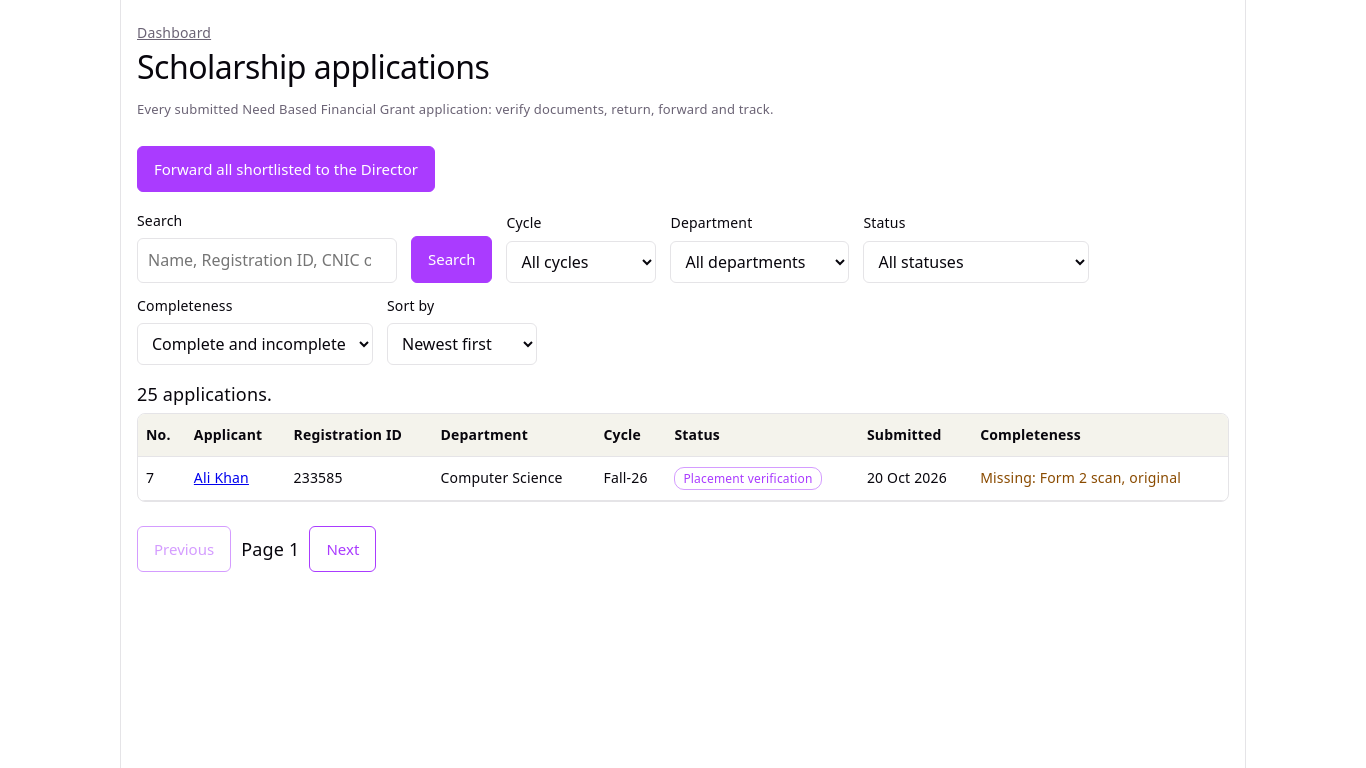
it: pagination asks for the next page
Click the button "Next".
click(343, 549)  # box [309, 526, 376, 572]
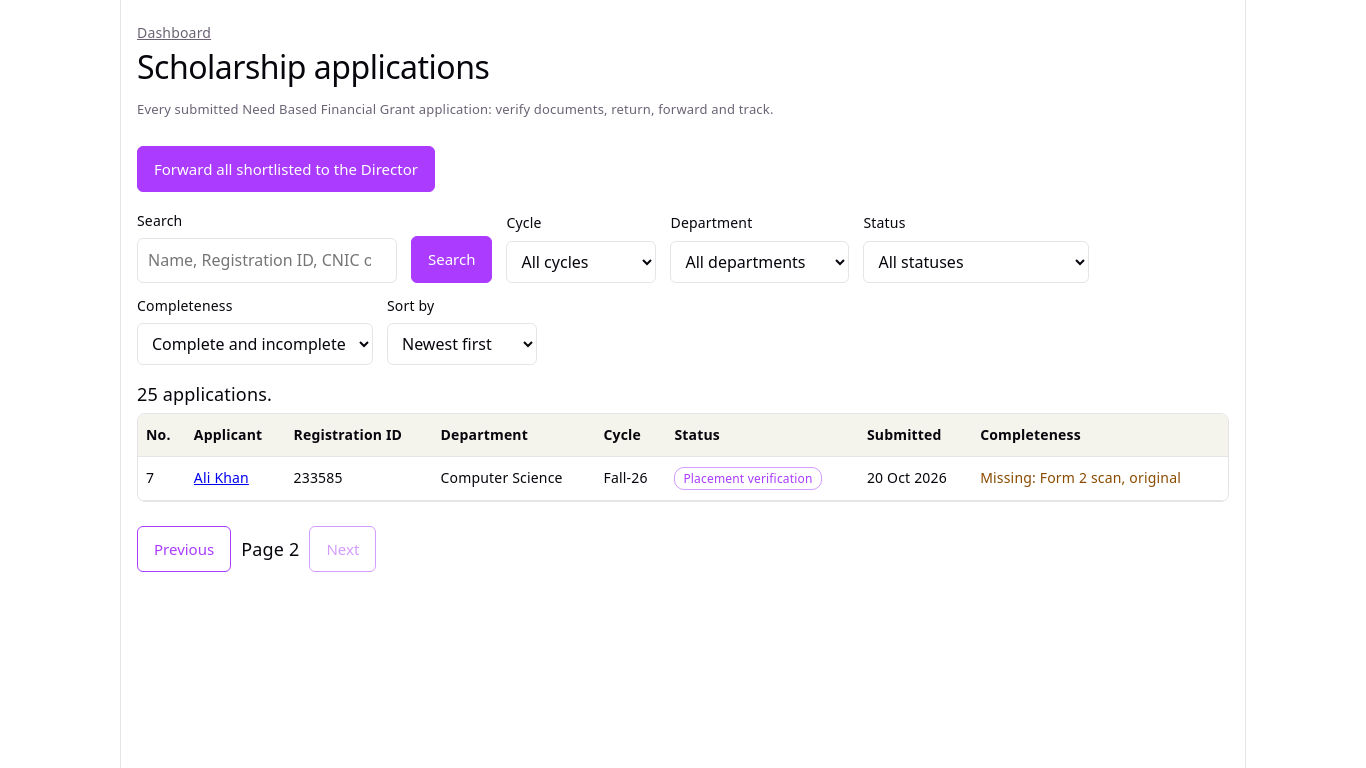
Expected: the text "Page 2" is shown, [241, 536, 300, 562]
